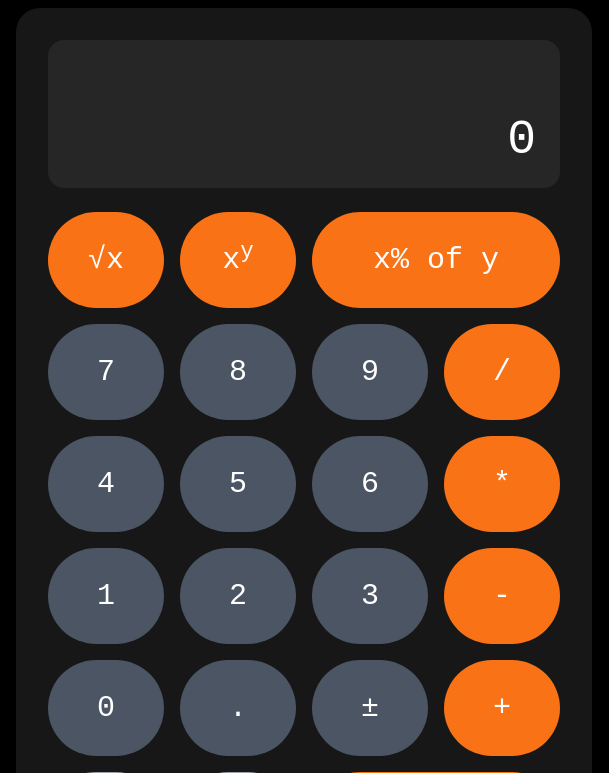
Scenario: Calculator › handles decimal input
This screenshot has width=609, height=773.
What coordinates should you click on to do the following:
click the button "1"
I would click on:
 (106, 596)
Its box is [48, 548, 164, 644].
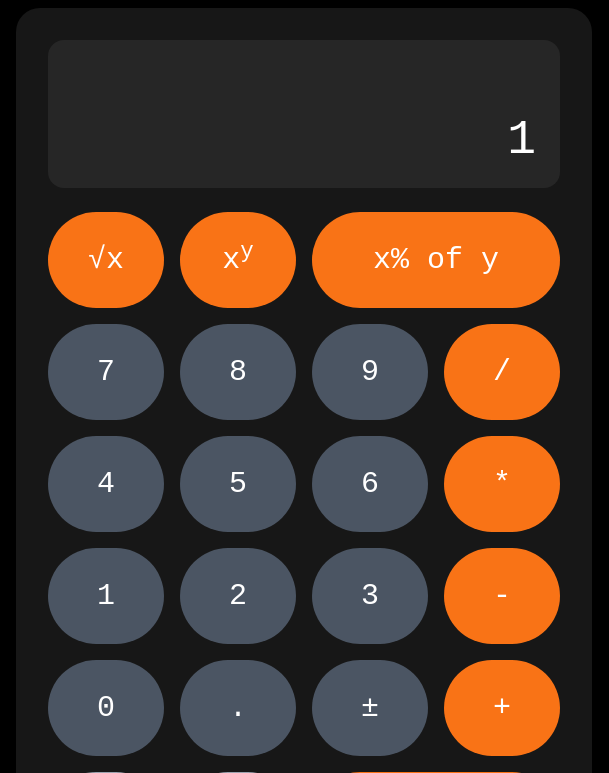
What coordinates should you click on to do the following:
click the button "."
I would click on:
 (238, 708)
Its box is [180, 660, 296, 756].
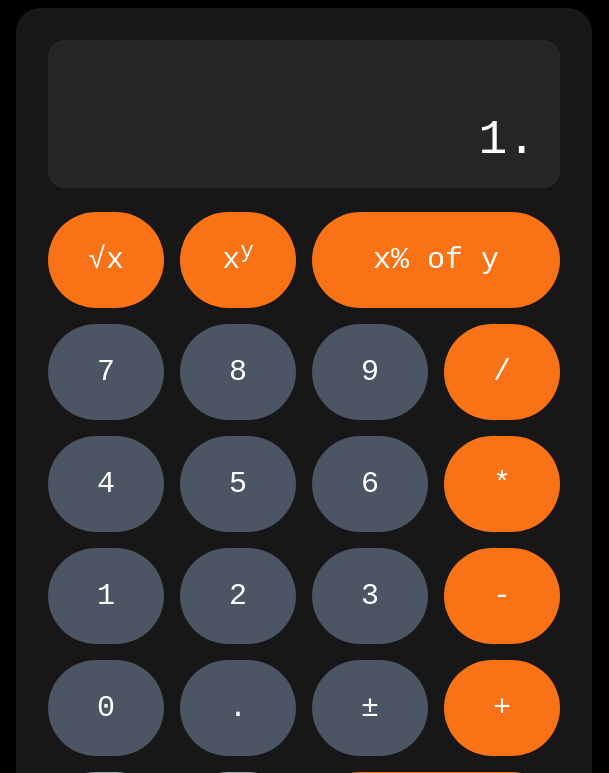
What coordinates should you click on to do the following:
click the button "5"
I would click on:
 (238, 484)
Its box is [180, 436, 296, 532].
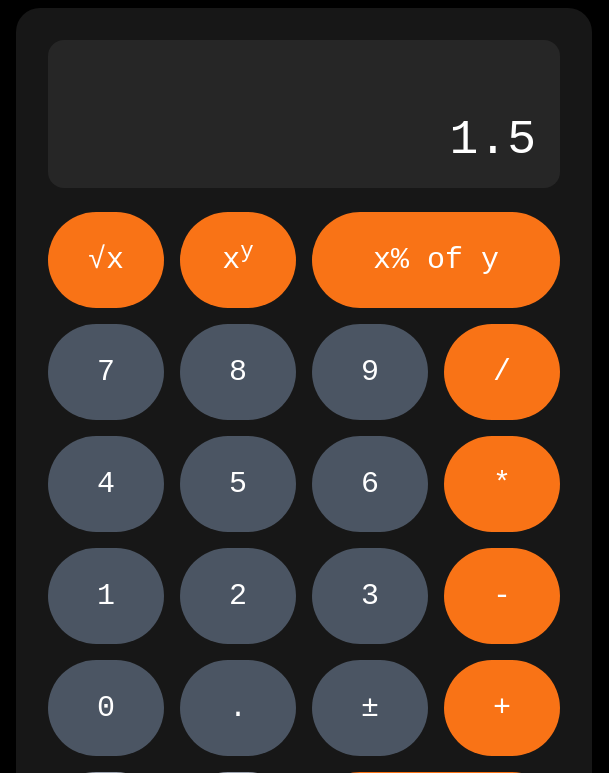
Check: the text with test id "display" reads "1.5", box [450, 113, 536, 167]
